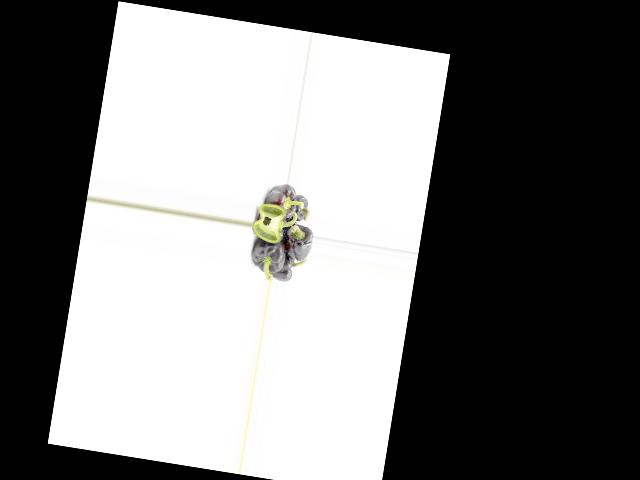bell_pepper: (263, 182, 299, 226)
